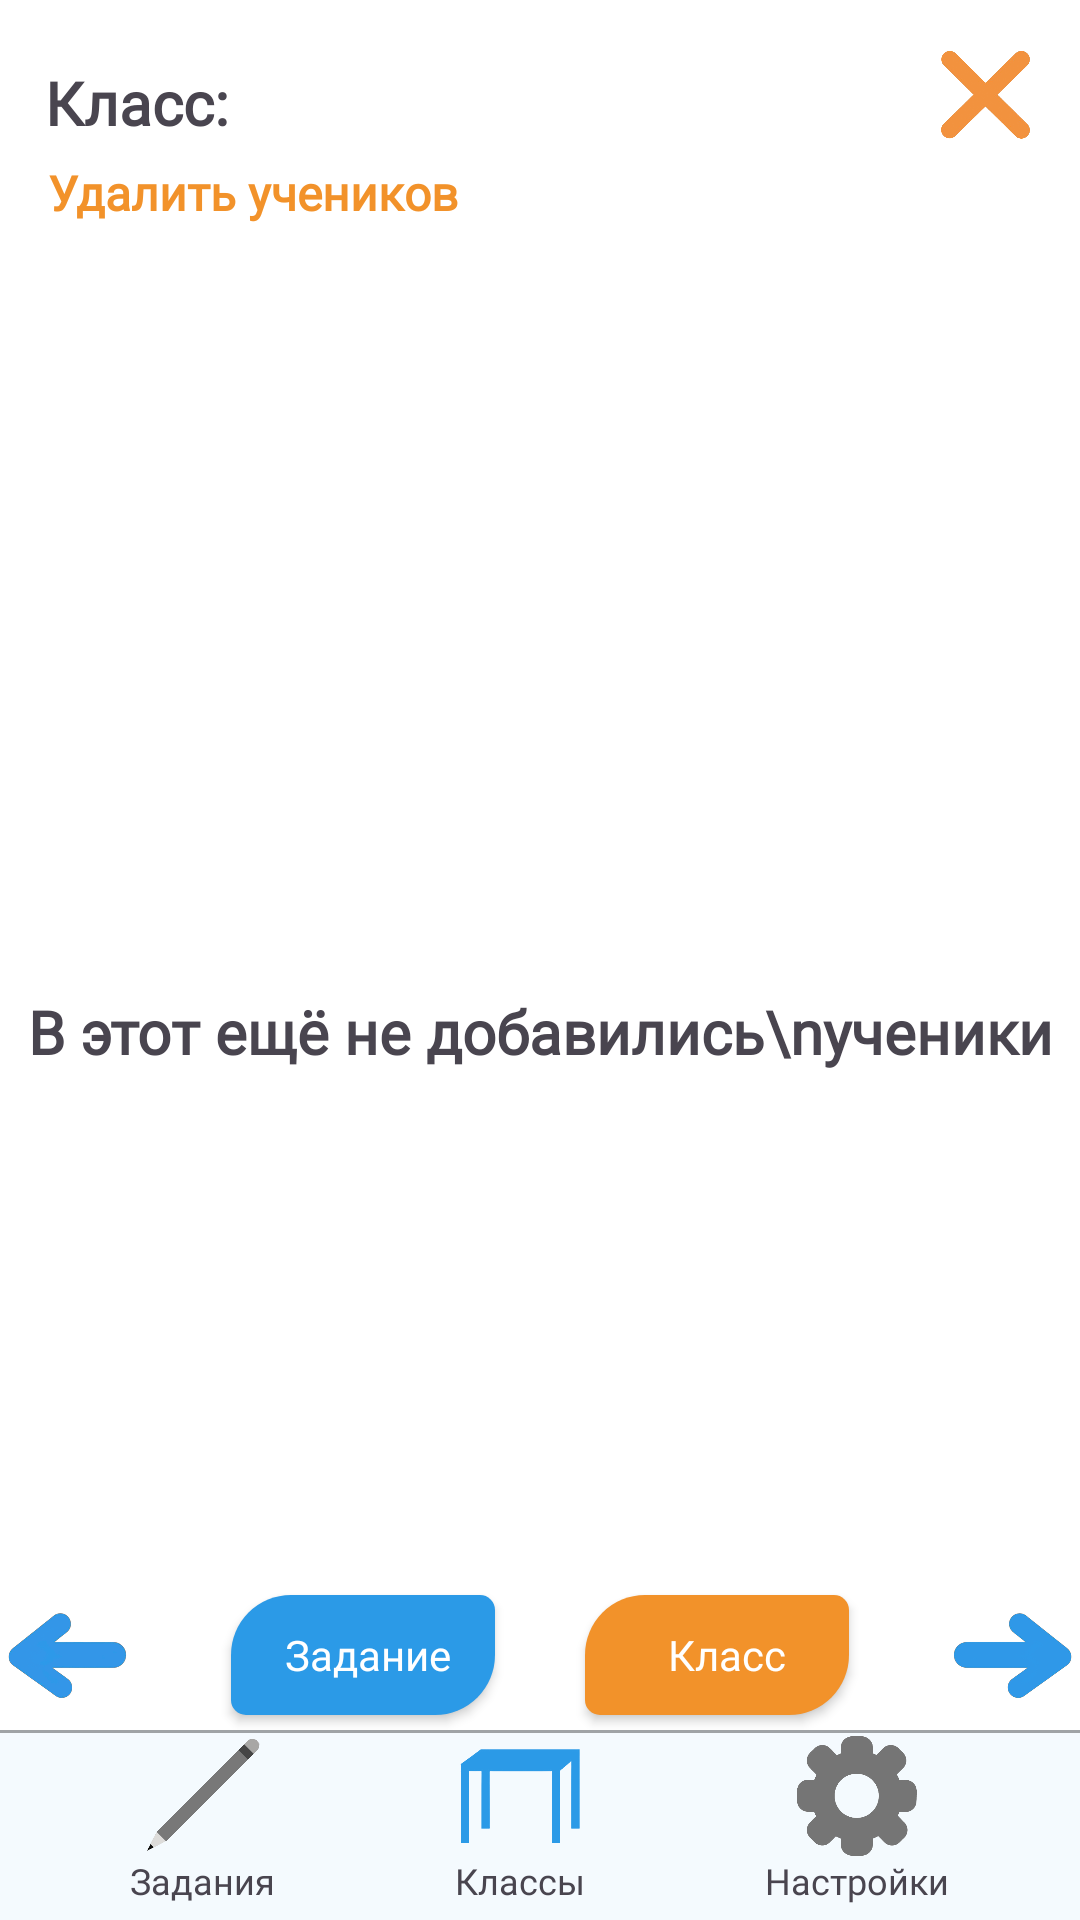

Where to tap for icons on this 1080*1920 app screen, as (x=x, y=y):
back: (x=67, y=1655)
desk: (x=520, y=1796)
forward: (x=1013, y=1655)
